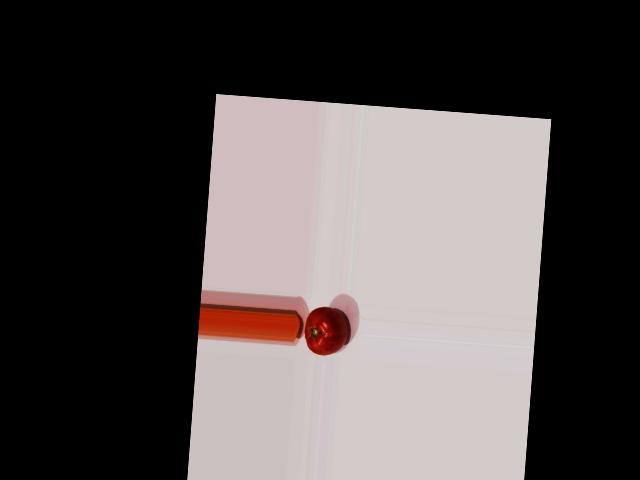tomato: (303, 306, 349, 357)
